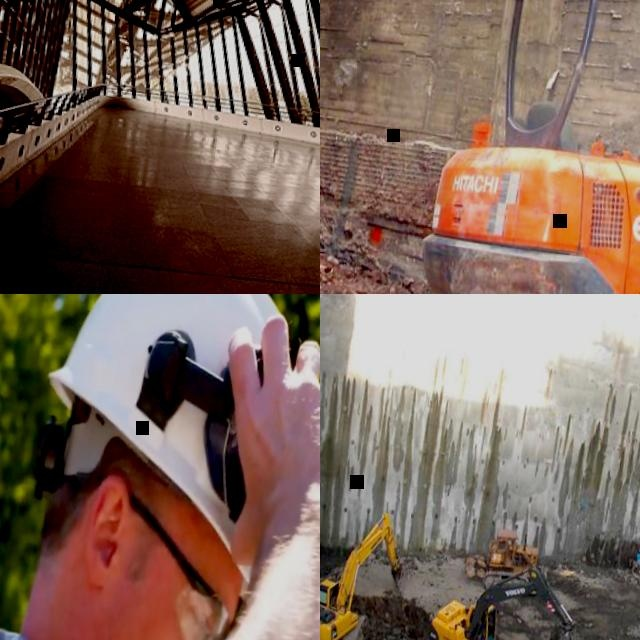Hardhat: (25, 294, 298, 593), (638, 547, 640, 551)
Person: (0, 294, 320, 640), (634, 544, 640, 567)
Safety Vest: (635, 553, 640, 563)
machinery: (407, 0, 640, 294), (420, 553, 585, 640), (320, 498, 411, 640), (482, 525, 553, 593)
